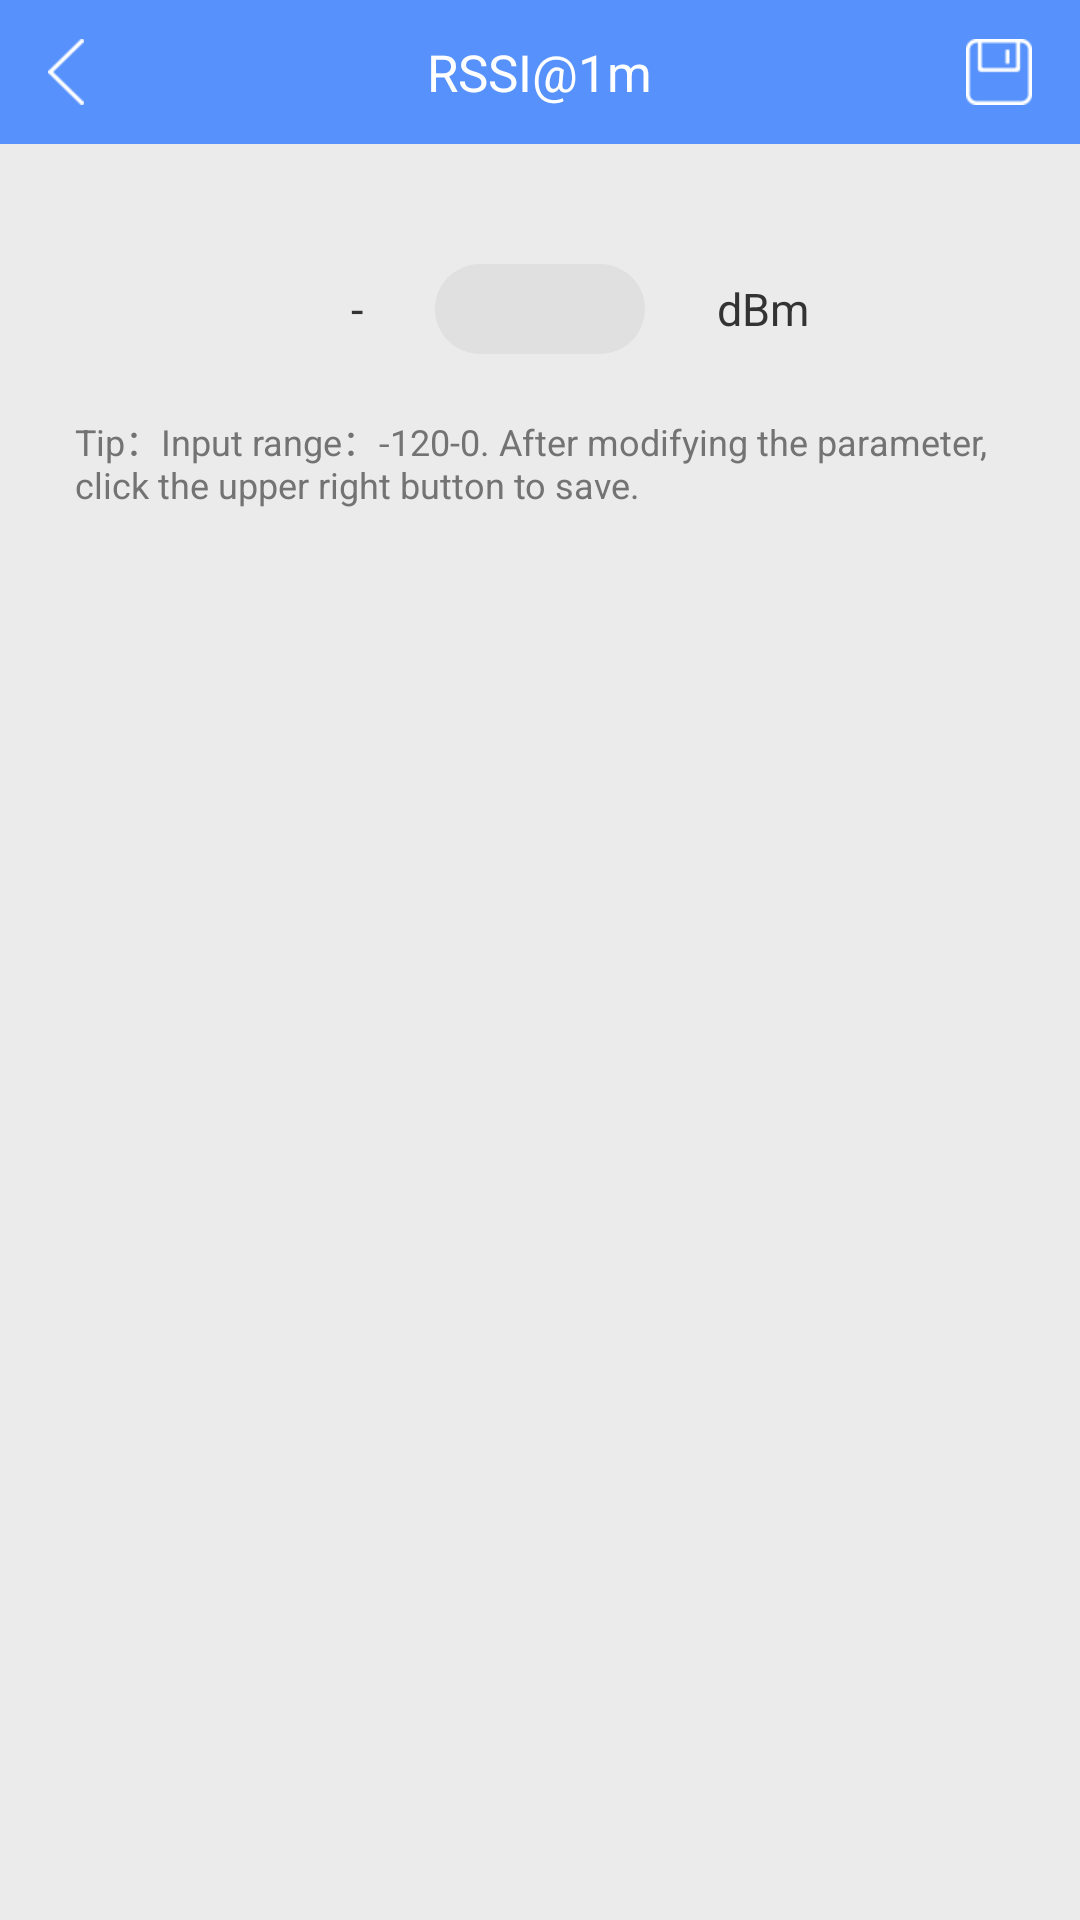

Where icons sit on this 1080×1920 app screen, as [x1, y1, x2, y2]:
save: [966, 39, 1032, 105]
